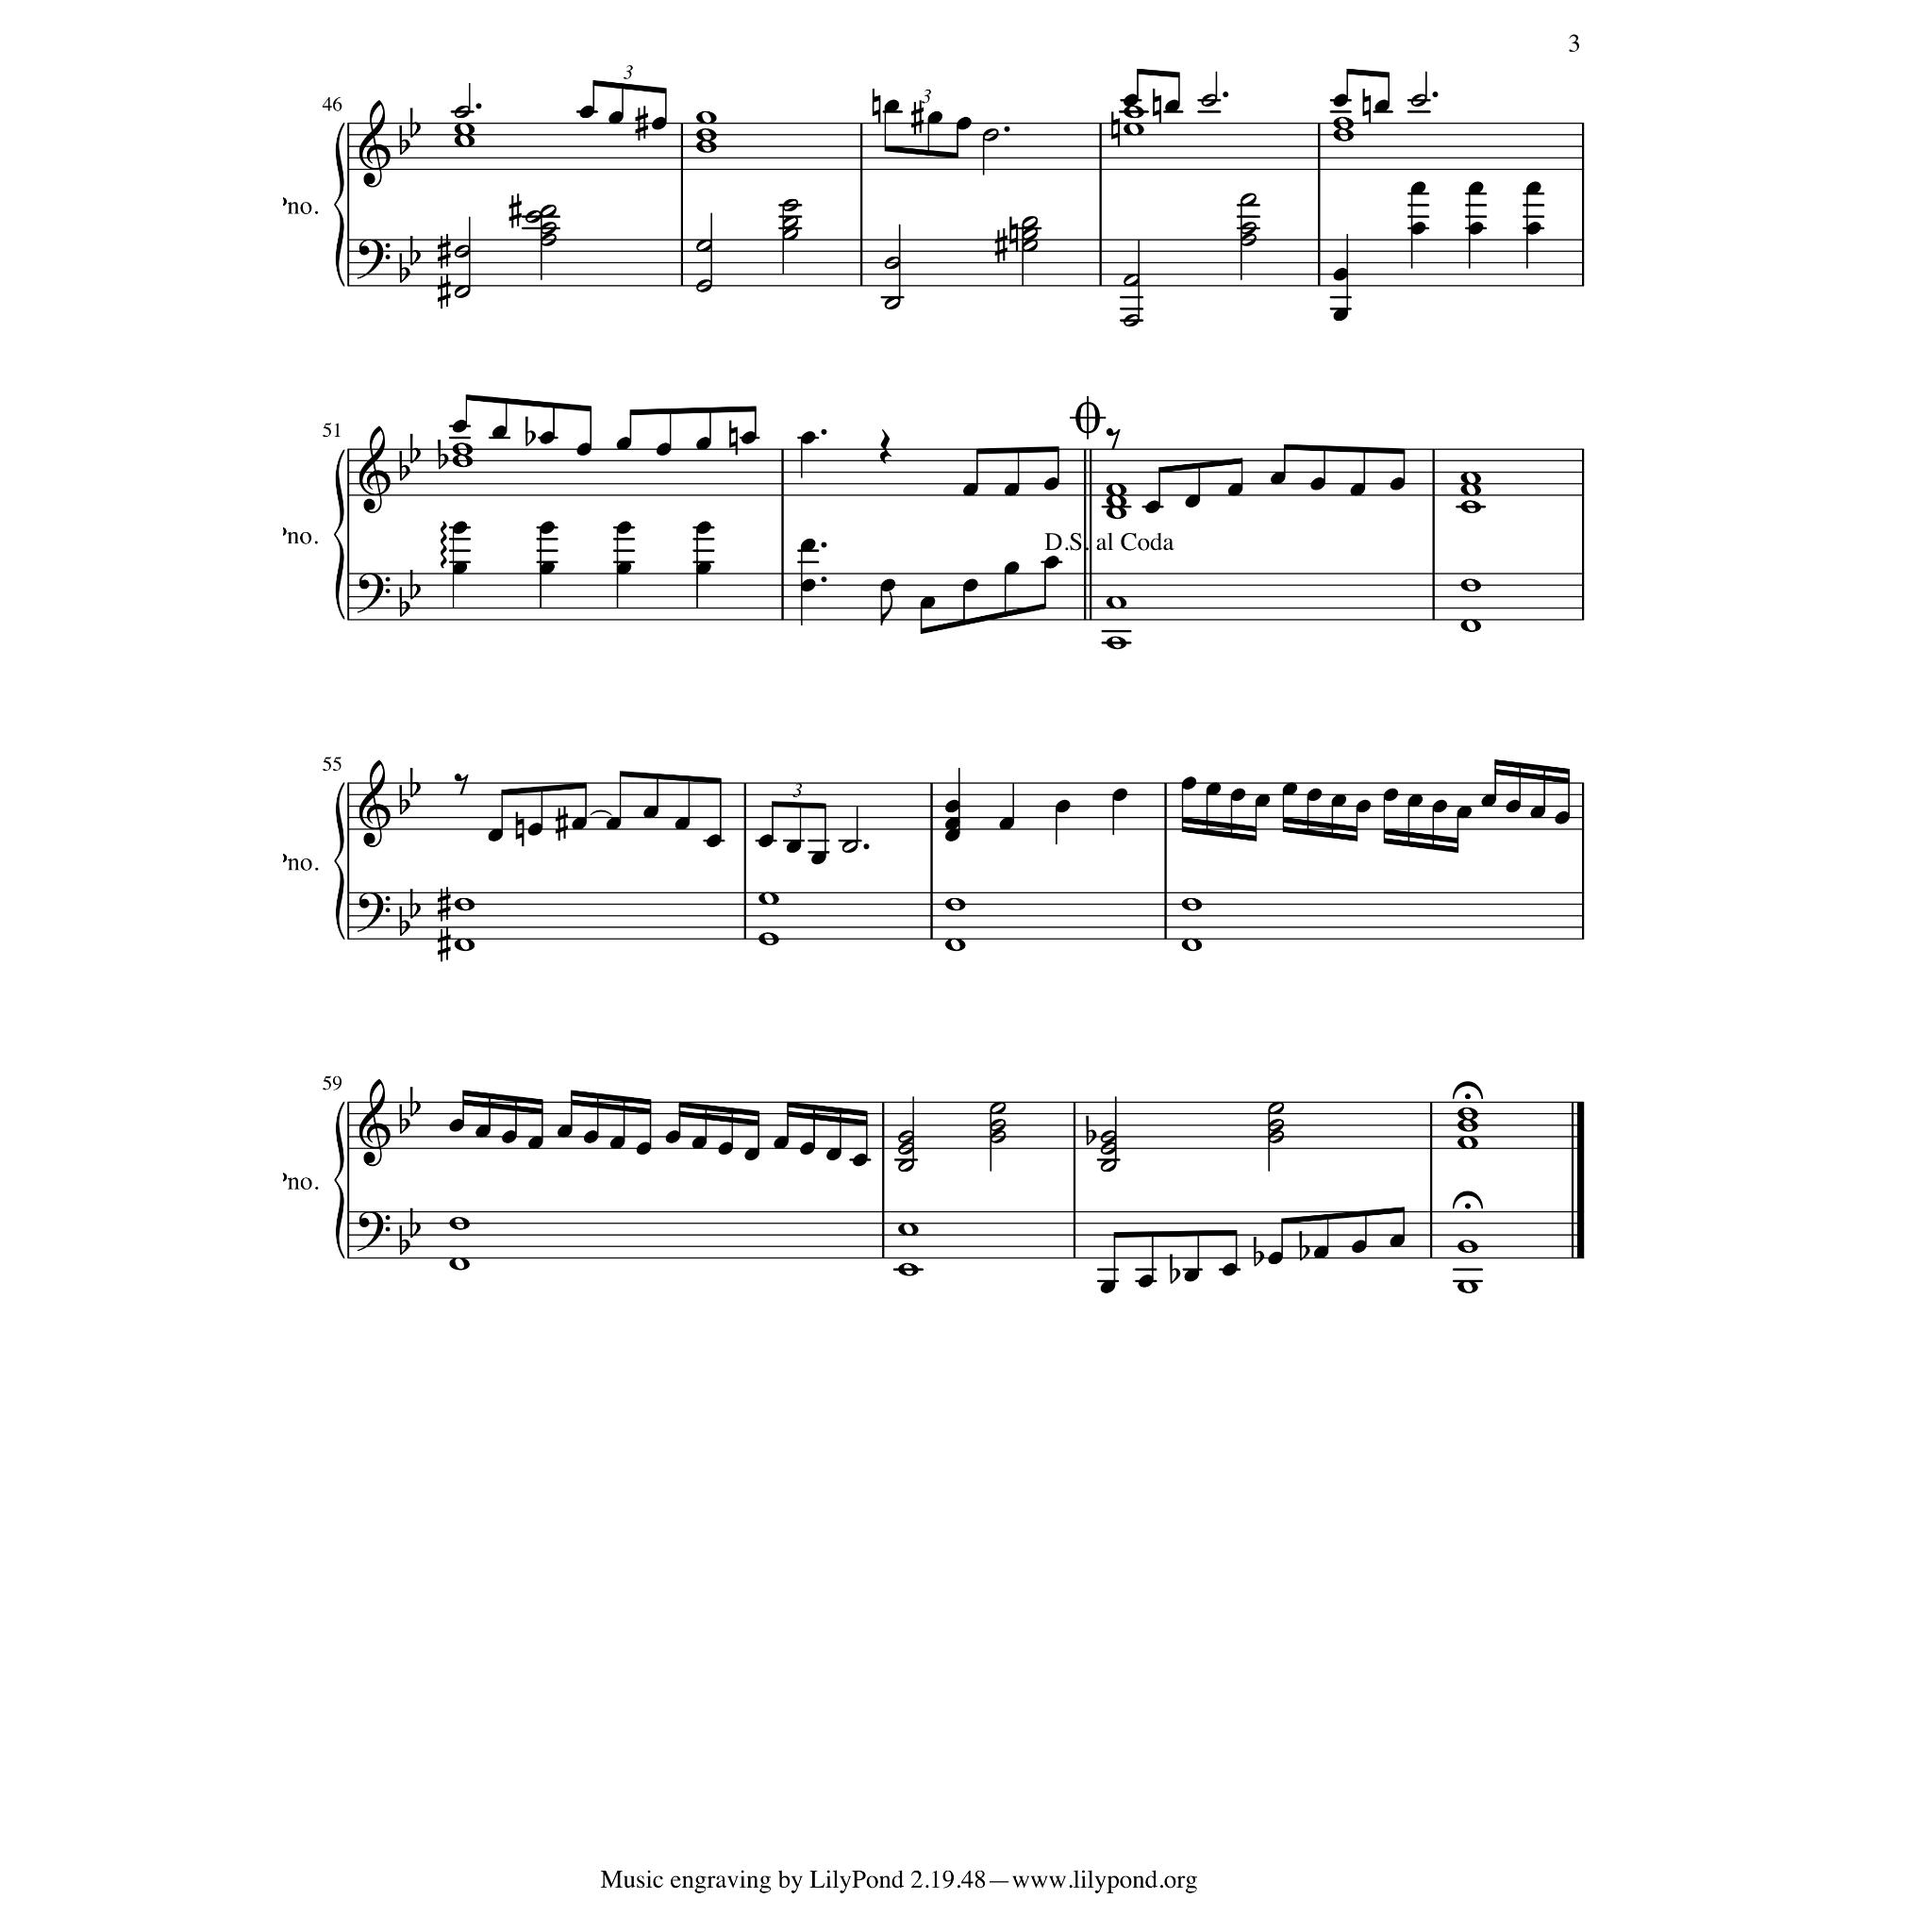brace: (332, 449, 345, 621), (333, 123, 344, 287), (333, 782, 344, 941), (333, 1101, 344, 1259)
fClef: (357, 240, 391, 279), (357, 574, 391, 613), (357, 892, 391, 932), (357, 1211, 391, 1251)
flag8thDown: (881, 591, 892, 626)
gClef: (358, 100, 391, 189), (358, 425, 391, 514), (358, 759, 391, 848), (358, 1078, 391, 1167)
noteheadBlack: (491, 425, 508, 440), (1043, 555, 1058, 570), (1185, 494, 1200, 509), (811, 851, 826, 866), (1138, 1274, 1153, 1289), (1313, 1245, 1328, 1260), (853, 1153, 868, 1168), (1164, 100, 1181, 113), (1332, 94, 1349, 108), (1524, 182, 1541, 195), (1524, 222, 1541, 235), (1332, 268, 1349, 281), (1332, 308, 1349, 322), (1374, 100, 1391, 113), (1409, 182, 1426, 195), (1409, 222, 1426, 235), (651, 117, 668, 130), (608, 111, 625, 125), (926, 111, 943, 125), (1309, 477, 1326, 491), (1270, 472, 1287, 485), (1226, 484, 1243, 497), (1389, 477, 1406, 491), (1349, 484, 1366, 497), (615, 522, 632, 535), (615, 561, 632, 575), (615, 437, 632, 450), (575, 443, 592, 457), (451, 522, 468, 535), (451, 561, 468, 575), (451, 420, 468, 433), (800, 539, 817, 552), (800, 579, 817, 592), (919, 596, 936, 609), (879, 579, 896, 592), (800, 431, 817, 444), (740, 431, 757, 444), (655, 443, 672, 457), (1306, 789, 1323, 802), (1281, 783, 1298, 796), (998, 817, 1015, 830), (1355, 800, 1372, 813), (1330, 794, 1347, 808), (526, 823, 543, 836), (674, 817, 691, 830), (487, 828, 504, 841), (785, 841, 802, 854), (1183, 1269, 1200, 1282), (1221, 1263, 1238, 1276), (1351, 1240, 1368, 1253), (1389, 1234, 1406, 1247), (557, 1124, 574, 1138), (474, 1124, 491, 1138), (798, 1142, 815, 1156), (717, 1142, 734, 1156), (691, 1136, 708, 1149), (664, 1130, 681, 1143), (743, 1148, 760, 1161), (1123, 94, 1138, 108), (1468, 222, 1483, 235), (1468, 182, 1483, 195), (579, 106, 594, 119), (884, 100, 899, 113), (957, 117, 972, 130), (1145, 501, 1160, 514), (1004, 561, 1019, 575), (1004, 484, 1019, 497), (962, 579, 977, 592), (962, 484, 977, 497), (1043, 477, 1058, 491), (540, 522, 555, 535), (540, 561, 555, 575), (540, 431, 555, 444), (696, 522, 711, 535), (696, 561, 711, 575), (696, 437, 711, 450), (1230, 789, 1245, 802), (1206, 783, 1221, 796), (1255, 794, 1270, 808), (1112, 789, 1127, 802), (1055, 800, 1070, 813), (1181, 776, 1196, 790), (1555, 811, 1570, 824), (1530, 806, 1545, 819), (1506, 800, 1521, 813), (1481, 794, 1496, 808), (1383, 789, 1398, 802), (1457, 806, 1472, 819), (1432, 800, 1447, 813), (1407, 794, 1423, 808), (606, 817, 621, 830), (572, 817, 587, 830), (706, 834, 721, 847), (643, 806, 658, 819), (945, 800, 960, 813), (945, 817, 960, 830), (945, 828, 960, 841), (758, 834, 774, 847), (1268, 1252, 1283, 1265), (1100, 1280, 1115, 1293), (528, 1136, 543, 1149), (502, 1130, 517, 1143), (636, 1142, 651, 1156), (609, 1136, 625, 1149), (583, 1130, 598, 1143), (449, 1119, 464, 1132), (826, 1148, 841, 1161), (774, 1136, 789, 1149)
noteheadHalf: (1240, 234, 1257, 247), (1201, 94, 1218, 108), (1240, 222, 1257, 235), (1240, 193, 1257, 207), (1021, 227, 1038, 241), (1021, 217, 1038, 230), (1021, 240, 1038, 253), (982, 128, 999, 142), (1123, 274, 1140, 287), (1123, 314, 1140, 327), (1410, 94, 1427, 108), (540, 205, 557, 218), (525, 210, 541, 224), (540, 222, 557, 235), (540, 234, 557, 247), (695, 240, 712, 253), (695, 279, 712, 292), (454, 245, 471, 258), (454, 286, 471, 299), (454, 106, 471, 119), (884, 257, 901, 270), (884, 297, 901, 310), (782, 199, 799, 212), (782, 217, 799, 230), (782, 227, 799, 241), (841, 841, 858, 854), (1267, 1102, 1284, 1115), (1267, 1119, 1284, 1132), (1267, 1130, 1284, 1143), (990, 1130, 1007, 1143), (1100, 1159, 1117, 1173), (990, 1102, 1007, 1115), (990, 1119, 1007, 1132), (1100, 1142, 1117, 1156), (1100, 1130, 1117, 1143), (897, 1130, 914, 1143), (897, 1142, 914, 1156), (897, 1159, 914, 1173)
noteheadWhole: (453, 134, 475, 149), (451, 441, 474, 457), (1106, 494, 1126, 509), (1106, 636, 1126, 651), (1106, 506, 1126, 521), (449, 1257, 470, 1272), (898, 1262, 919, 1277), (1332, 117, 1355, 130), (1332, 128, 1355, 142), (453, 123, 475, 136), (451, 455, 474, 468), (453, 898, 475, 911), (453, 939, 475, 952), (943, 898, 966, 911), (943, 939, 966, 952), (1123, 123, 1143, 136), (1123, 106, 1143, 119), (696, 128, 717, 142), (696, 141, 717, 154), (696, 111, 717, 125), (1106, 483, 1126, 496), (1106, 596, 1126, 609), (1460, 579, 1481, 592), (1460, 619, 1481, 632), (1460, 472, 1481, 485), (1460, 483, 1481, 496), (1460, 501, 1481, 514), (1181, 898, 1202, 911), (1181, 939, 1202, 952), (758, 892, 779, 906), (758, 932, 779, 945), (1457, 1240, 1477, 1253), (1457, 1280, 1477, 1293), (1457, 1108, 1477, 1121), (1457, 1119, 1477, 1132), (1457, 1136, 1477, 1149), (449, 1217, 470, 1230), (898, 1223, 919, 1236)
rest8th: (1106, 428, 1121, 451), (454, 774, 469, 796)
restQuarter: (879, 429, 892, 465)
